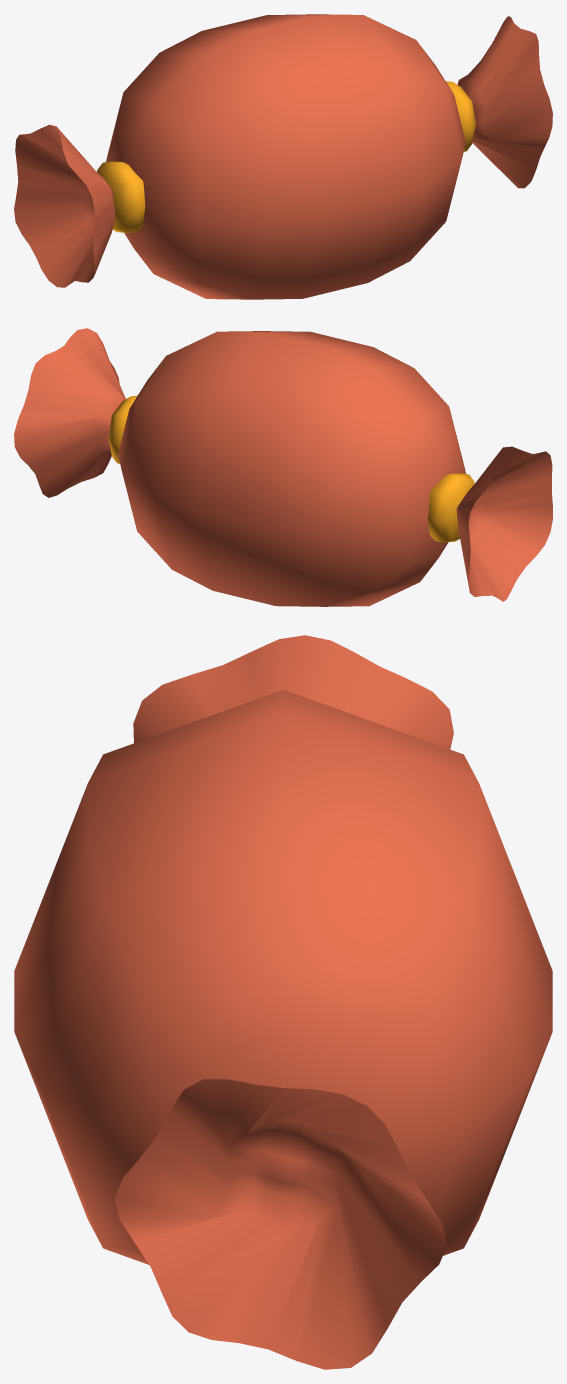
The model's file is Candy.fbx.
The picture shows the model from 3 angles, top to bottom: view 1: azimuth 30°, elevation 25°; view 2: azimuth 150°, elevation 25°; view 3: azimuth 270°, elevation 25°; orthographic projection. The views are drawn at different scales.
Parts seen in each view (by area): view 1: Candy; view 2: Candy; view 3: Candy.
Boxes of the visible parts, left/top/right/bottom form: Candy: left=14, top=14, right=552, bottom=299; Candy: left=14, top=328, right=552, bottom=606; Candy: left=14, top=635, right=552, bottom=1369.
Bounding box in the file's own units: 15.89 × 8.43 × 7.98.
